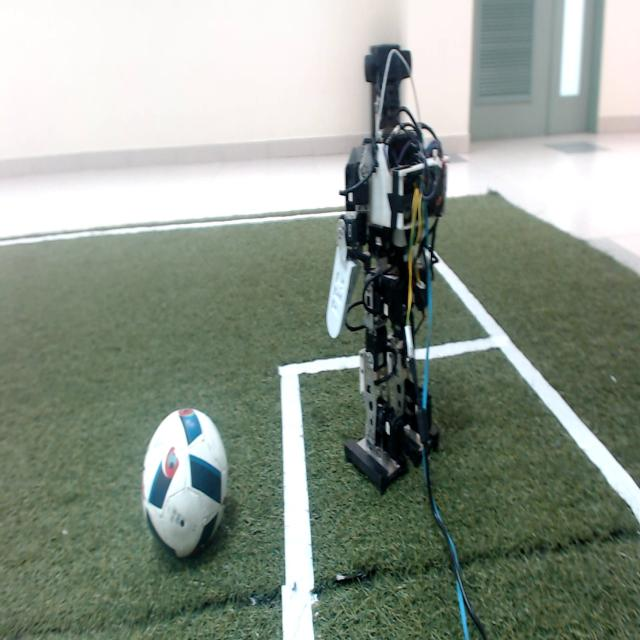ball: (140, 406, 230, 562)
